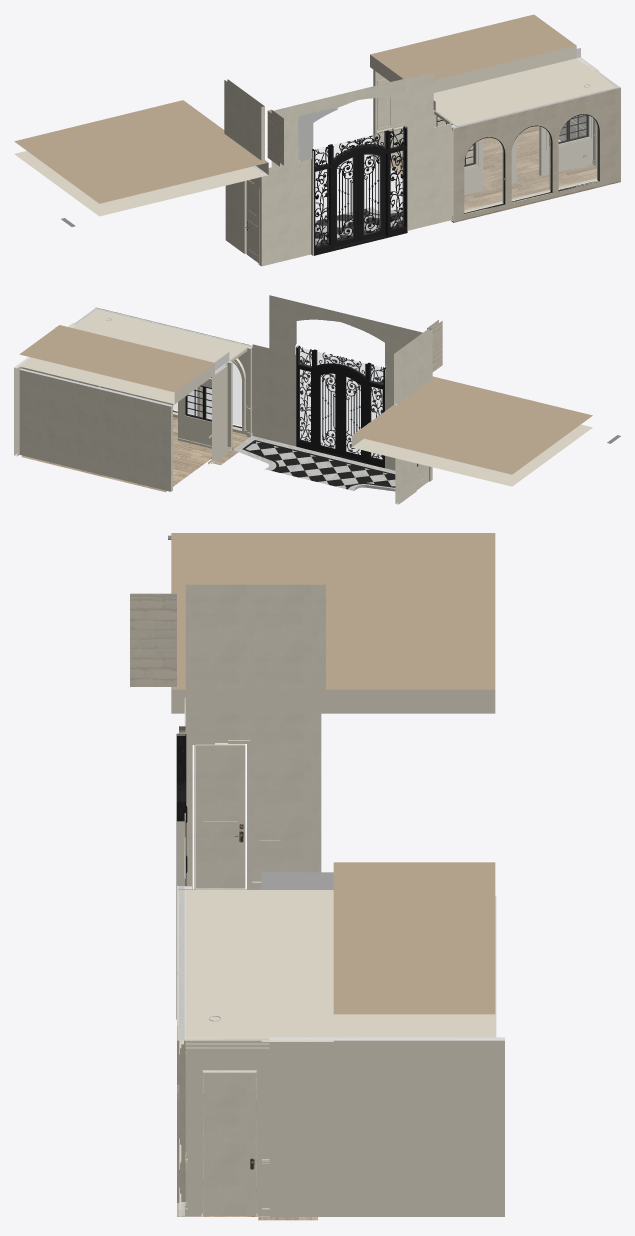
The model's file is office-hall-296ab9b42c33.glb.
3 views of the same model, one above another, from view 1: azimuth 30°, elevation 25°; view 2: azimuth 150°, elevation 25°; view 3: azimuth 270°, elevation 25° (orthographic). The views are drawn at different scales.
Parts seen in each view (by area): view 1: office-hall-look-2575515a05775d9e, office-hall-look-d5a4a1b5d3594c04, office-hall-c9e78b9ec1bb39cd, office-hall-look-34525a54e63b733b, office-hall-dbd60ee5c3733ed6, office-hall-look-bce662e26d5a5947, office-hall-5cbcc744e6f960f3, office-hall-c02a36d0521470a9, office-hall-38561c12898e4d43, office-hall-look-dbd60ee5c3733ed6, office-hall-look-746250f96522f643, office-hall-c374268555806af8 (+20 smaller); view 2: office-hall-look-2575515a05775d9e, office-hall-look-19647d6da46c2b80, office-hall-look-d5a4a1b5d3594c04, office-hall-look-34525a54e63b733b, office-hall-dbd60ee5c3733ed6, office-hall-look-e388ad8855329420, office-hall-look-3231f73bae020736, office-hall-look-bce662e26d5a5947, office-hall-look-746250f96522f643, office-hall-look-b3086b8cd368d7da, office-hall-look-26f615ec640e02ab, office-hall-look-6a051330000fbca1 (+20 smaller); view 3: office-hall-look-2575515a05775d9e, office-hall-look-6a1144f4e43410bb, office-hall-look-746250f96522f643, office-hall-look-85f0fd939e0fcc78, office-hall-dbd60ee5c3733ed6, office-hall-look-dbd60ee5c3733ed6, office-hall-cf6d22c5317ced0b, office-hall-look-3322bc58bedf5620, office-hall-68d06b361ac47823, office-hall-look-5e296beffb47d853, office-hall-c9e78b9ec1bb39cd, office-hall-look-bce662e26d5a5947.
Part boxes in pixels (box(x1,y1,x2,y2)): office-hall-look-2575515a05775d9e: box(14, 14, 576, 216); office-hall-look-d5a4a1b5d3594c04: box(261, 123, 451, 266); office-hall-c9e78b9ec1bb39cd: box(451, 90, 604, 221); office-hall-look-34525a54e63b733b: box(271, 72, 433, 166); office-hall-dbd60ee5c3733ed6: box(434, 68, 620, 127); office-hall-look-bce662e26d5a5947: box(312, 126, 407, 255); office-hall-5cbcc744e6f960f3: box(559, 115, 598, 188); office-hall-c02a36d0521470a9: box(512, 126, 551, 199); office-hall-38561c12898e4d43: box(464, 138, 503, 211); office-hall-look-dbd60ee5c3733ed6: box(433, 48, 599, 110); office-hall-look-746250f96522f643: box(224, 79, 264, 160); office-hall-c374268555806af8: box(451, 164, 620, 222); office-hall-look-2575515a05775d9e: box(19, 325, 592, 486); office-hall-look-19647d6da46c2b80: box(19, 368, 172, 491); office-hall-look-d5a4a1b5d3594c04: box(252, 344, 395, 470); office-hall-look-34525a54e63b733b: box(269, 295, 422, 378); office-hall-dbd60ee5c3733ed6: box(73, 307, 249, 362); office-hall-look-e388ad8855329420: box(246, 441, 395, 488); office-hall-look-3231f73bae020736: box(314, 368, 340, 455); office-hall-look-bce662e26d5a5947: box(296, 345, 385, 468); office-hall-look-746250f96522f643: box(394, 328, 432, 405); office-hall-look-b3086b8cd368d7da: box(299, 348, 383, 459); office-hall-look-26f615ec640e02ab: box(340, 369, 366, 461); office-hall-look-6a051330000fbca1: box(212, 364, 227, 462); office-hall-look-2575515a05775d9e: box(171, 533, 495, 1037); office-hall-look-6a1144f4e43410bb: box(269, 1037, 504, 1216); office-hall-look-746250f96522f643: box(185, 584, 325, 689); office-hall-look-85f0fd939e0fcc78: box(185, 713, 321, 889); office-hall-dbd60ee5c3733ed6: box(178, 889, 277, 1040); office-hall-look-dbd60ee5c3733ed6: box(261, 872, 333, 1041); office-hall-cf6d22c5317ced0b: box(203, 1071, 256, 1215); office-hall-look-3322bc58bedf5620: box(196, 744, 245, 888); office-hall-68d06b361ac47823: box(185, 1037, 269, 1216); office-hall-look-5e296beffb47d853: box(130, 593, 176, 686); office-hall-c9e78b9ec1bb39cd: box(177, 886, 185, 1201); office-hall-look-bce662e26d5a5947: box(176, 734, 186, 1019).
Size of the model in its own units: 18.71 by 5.17 by 5.78.
Materials: 29 (7 with a texture image).
